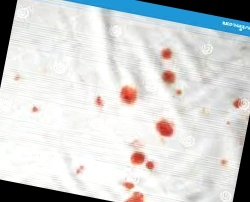blood: (118, 180, 151, 202), (130, 151, 156, 171), (119, 85, 139, 106), (154, 119, 175, 139), (160, 47, 174, 63), (161, 71, 177, 84), (232, 96, 245, 111), (95, 96, 104, 109), (174, 89, 182, 97)
